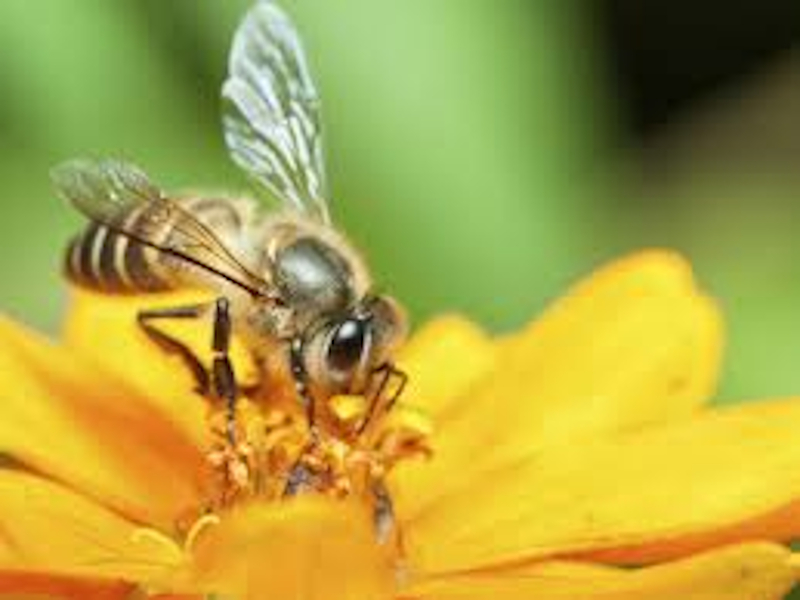abeja: (14, 23, 463, 472)
